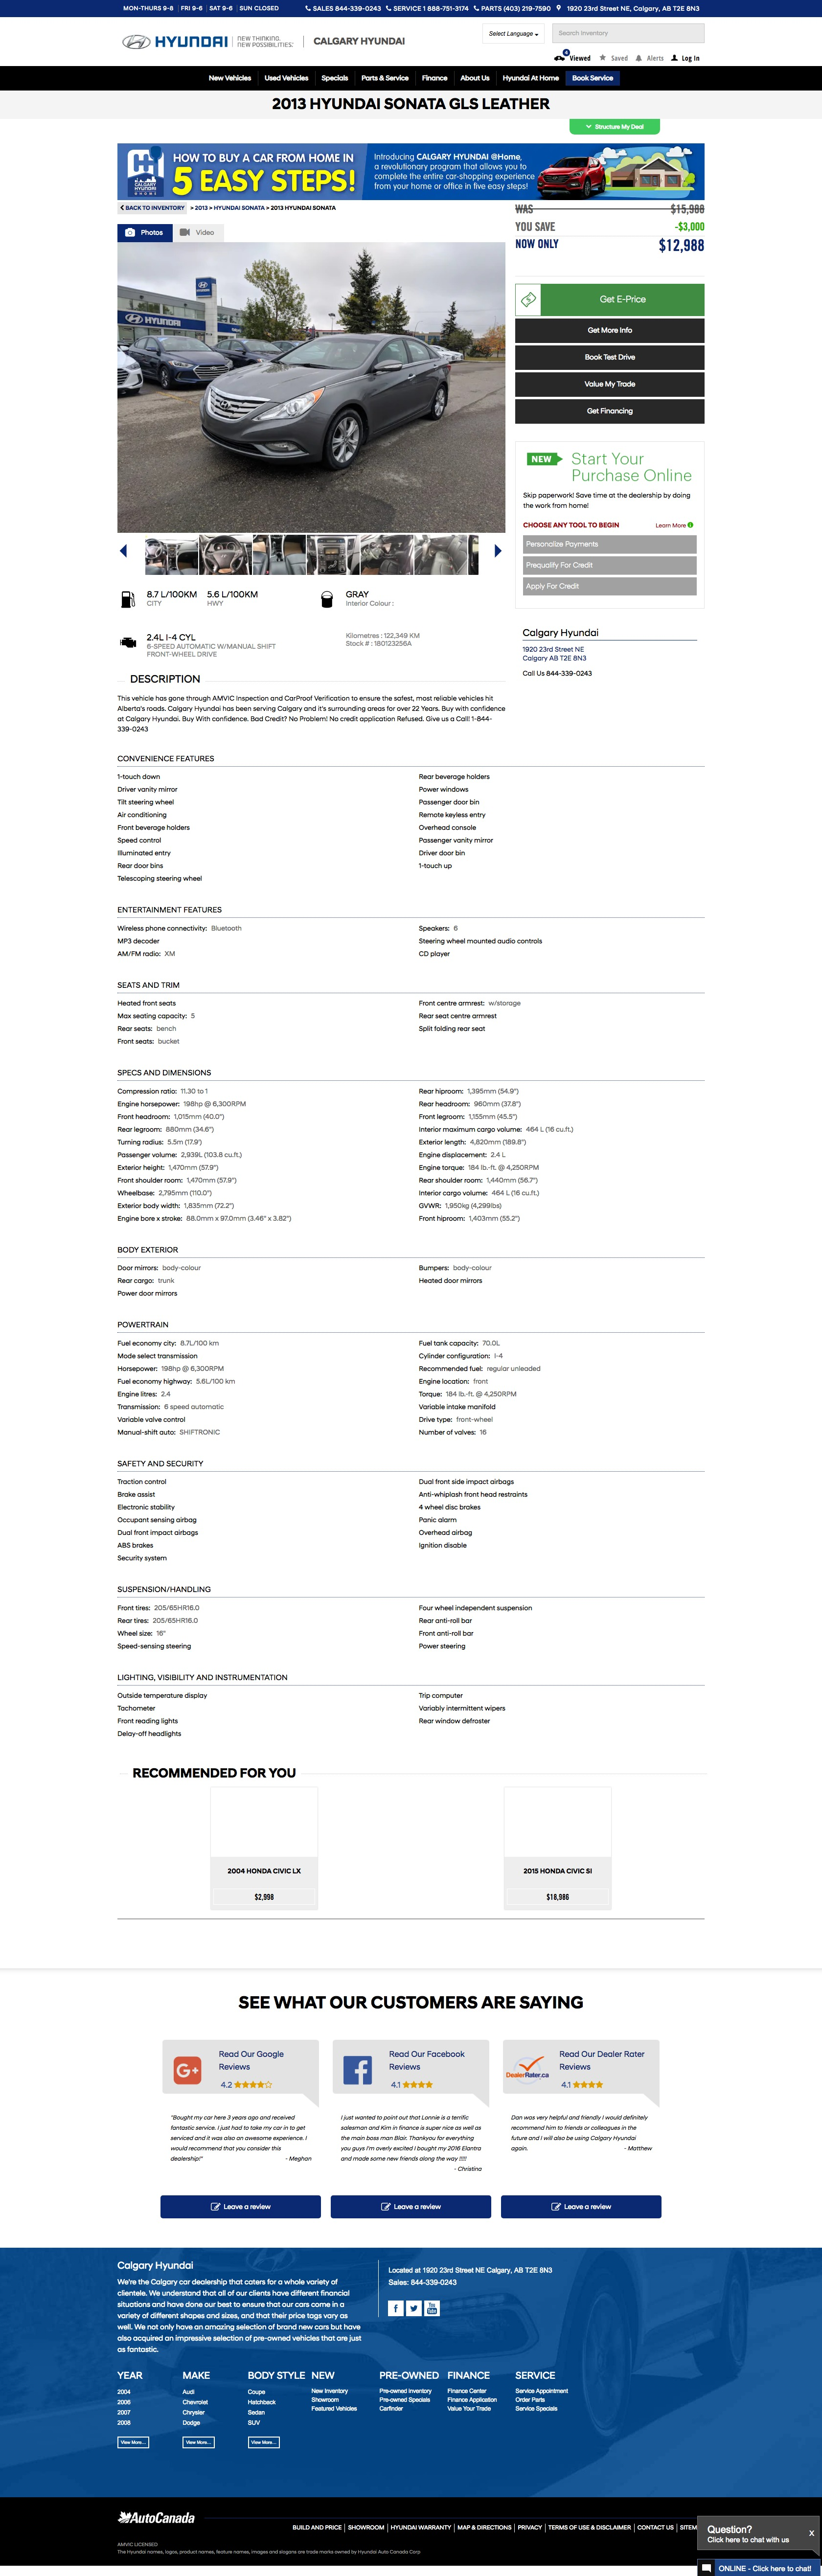car: (495, 544, 501, 559)
